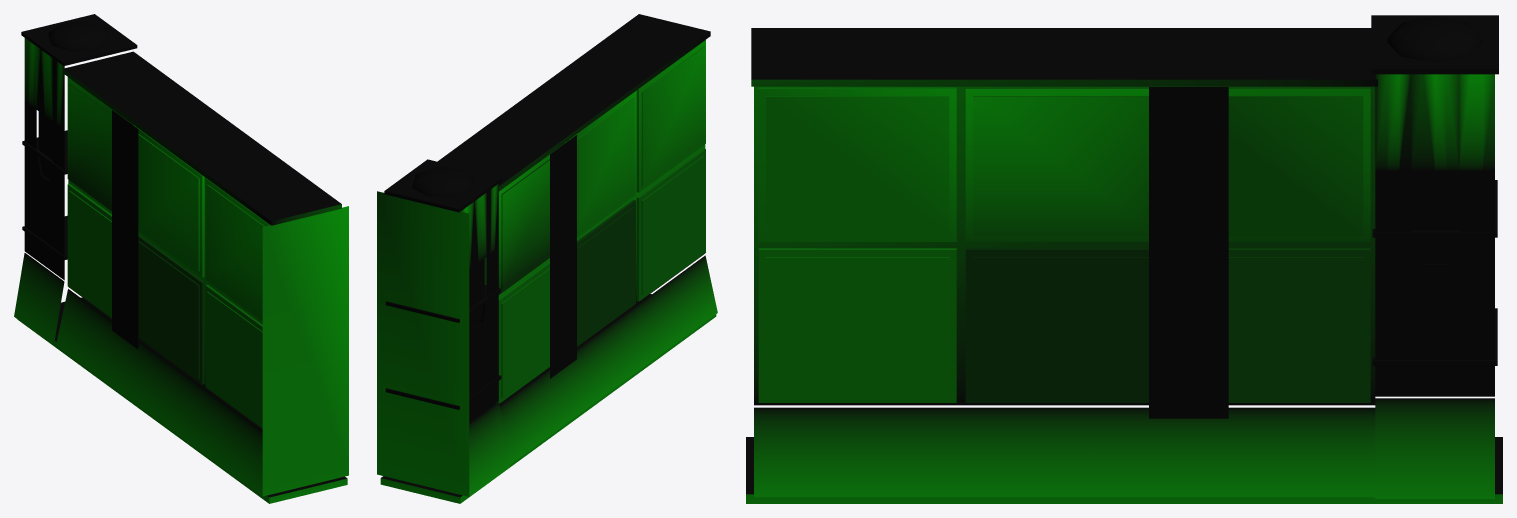
The model's file is s_heavywall.glb.
The picture shows the model from 3 angles, left to right: view 1: azimuth 30°, elevation 25°; view 2: azimuth 150°, elevation 25°; view 3: azimuth 270°, elevation 25°; orthographic projection. The views are drawn at different scales.
Parts seen in each view (by area): view 1: lod0; view 2: lod0; view 3: lod0.
Part boxes in pixels (<box>): lod0: <box>14,14,348,503</box>; lod0: <box>377,14,717,503</box>; lod0: <box>746,15,1502,503</box>.
Size of what is drawn, in the model's own units: 5.91 by 18.66 by 28.45.
